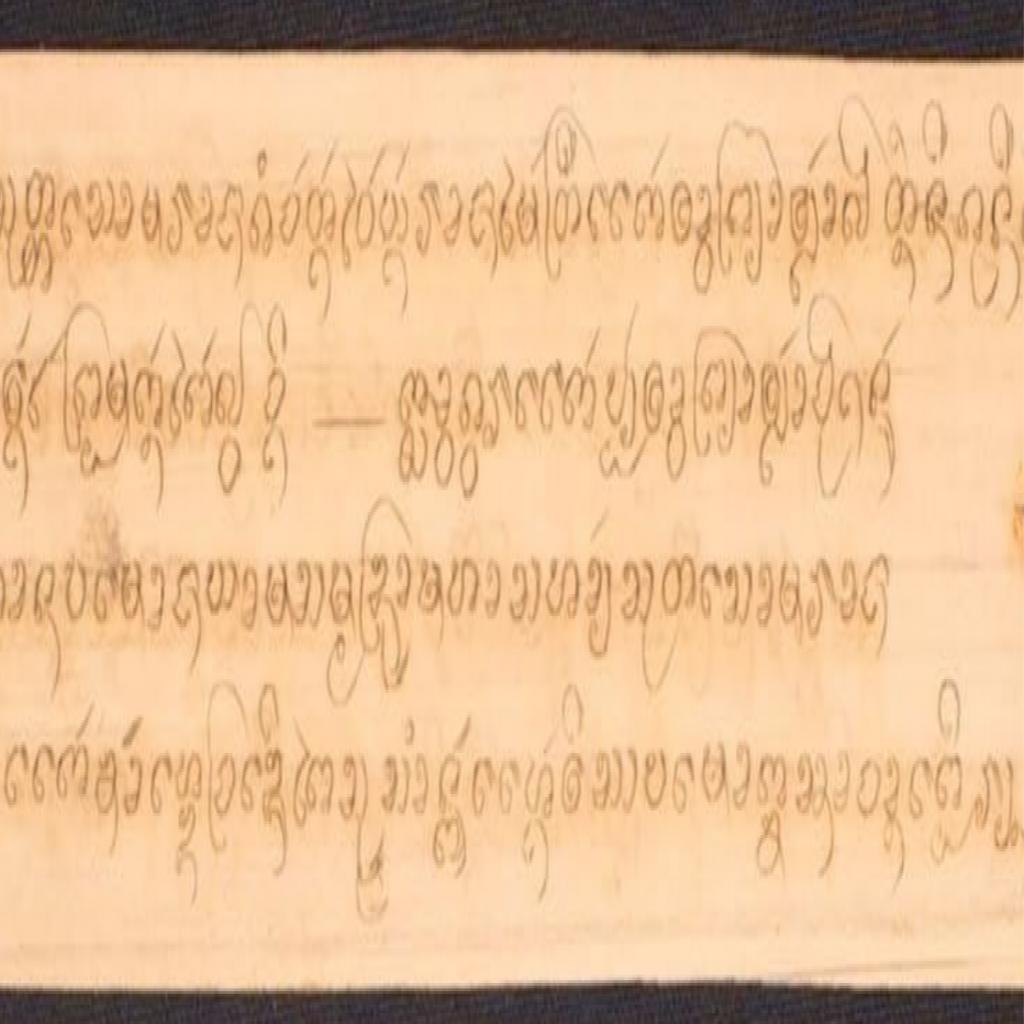LN028: (934, 751, 966, 817)
